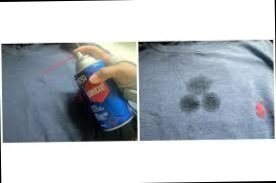oil: (172, 75, 222, 116)
